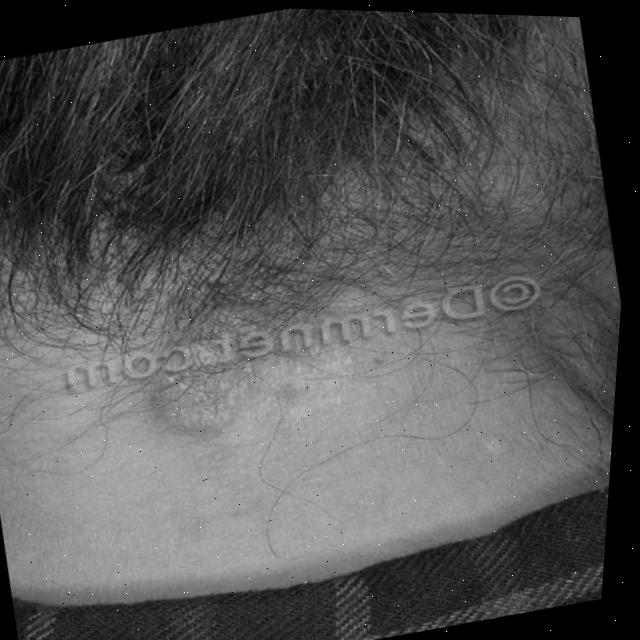Eczema: (123, 283, 354, 449)
